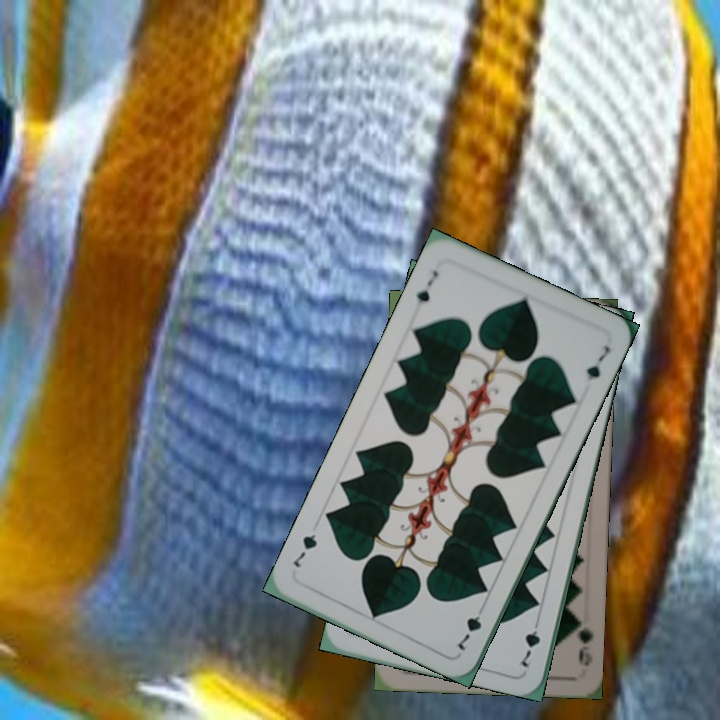G7: (453, 600, 488, 654), (516, 614, 543, 671), (412, 266, 441, 307)
G9: (569, 613, 596, 668)
